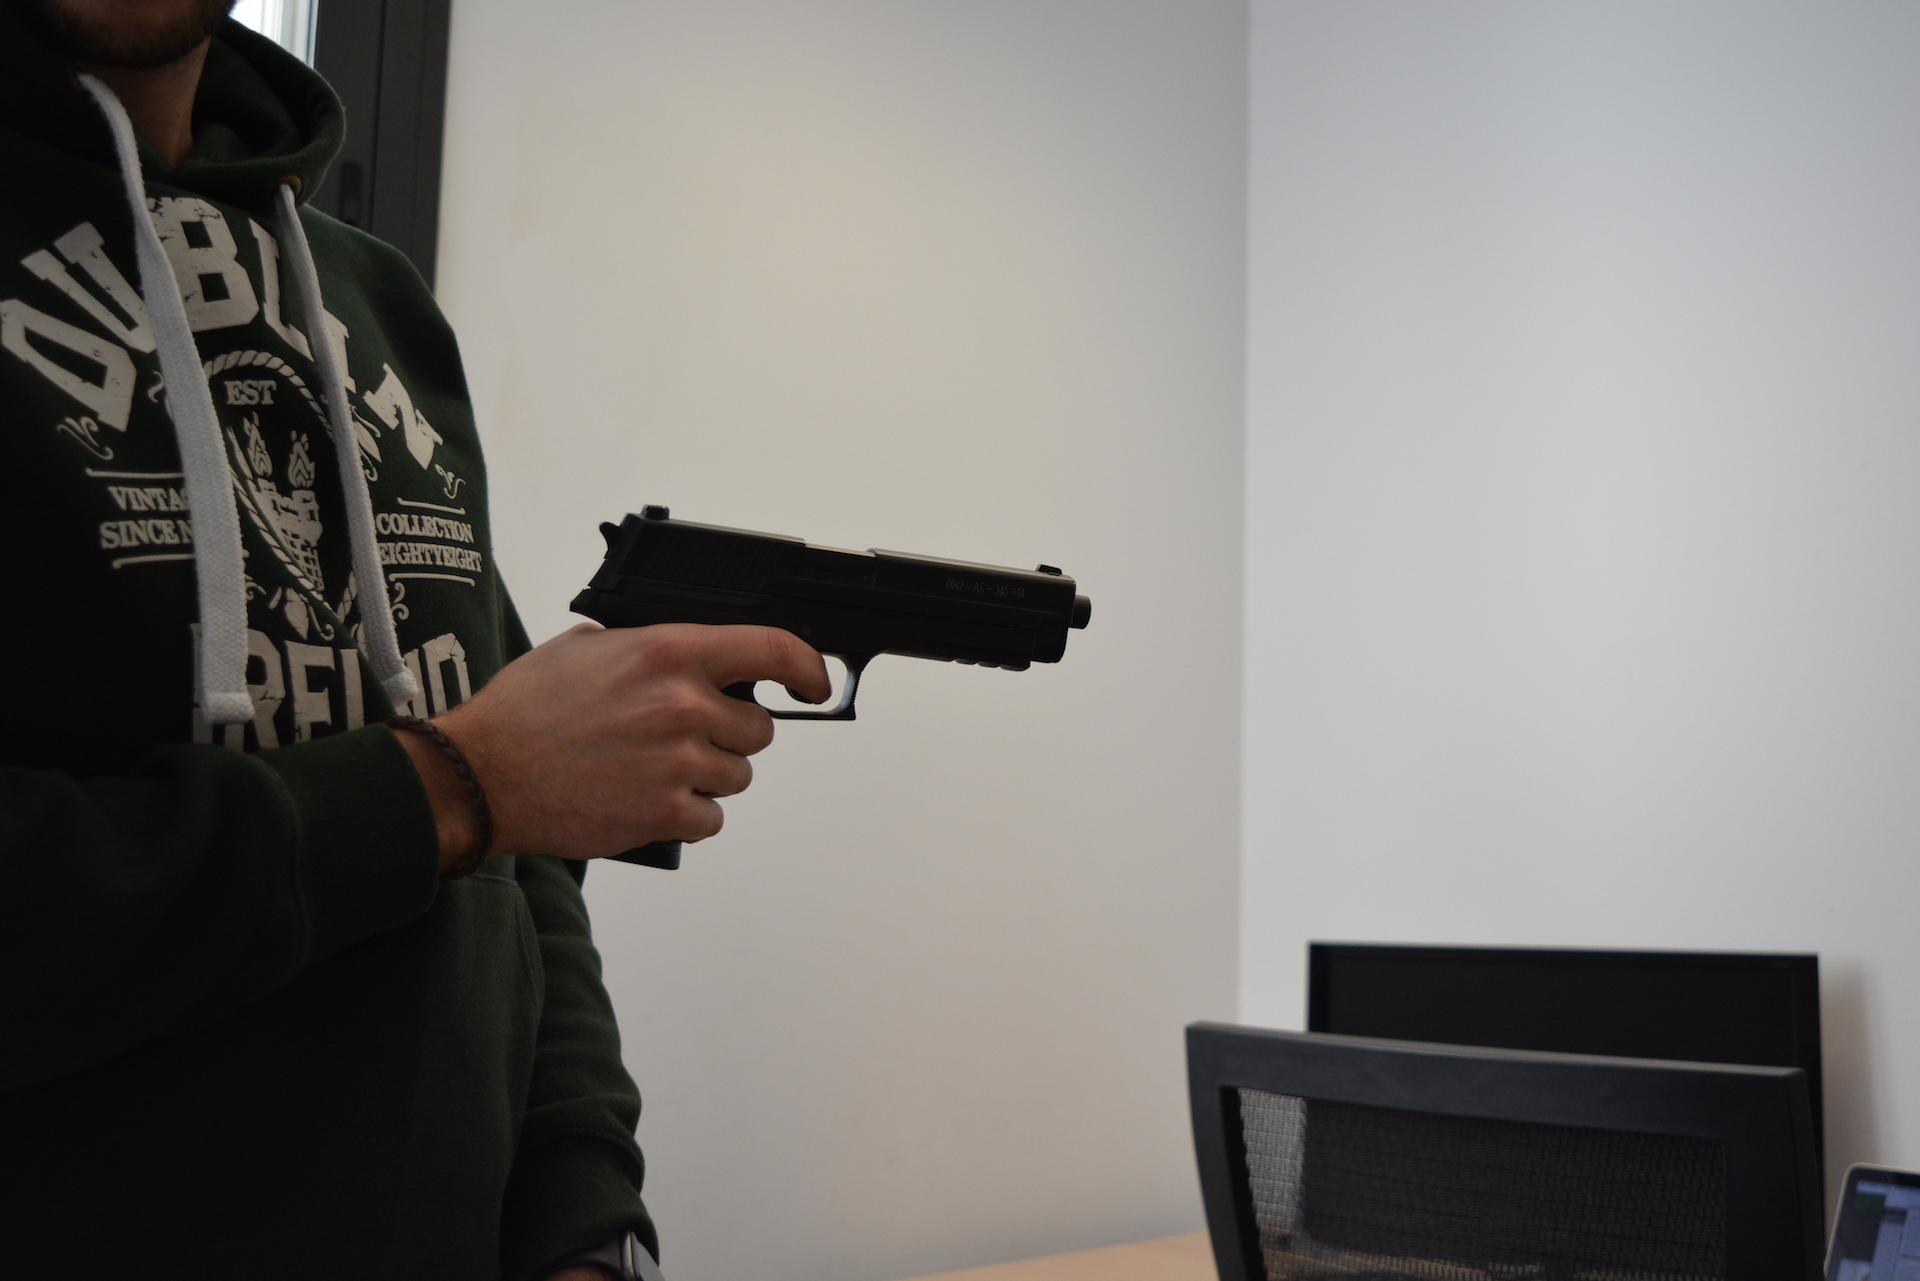pistol: (568, 500, 1095, 874)
